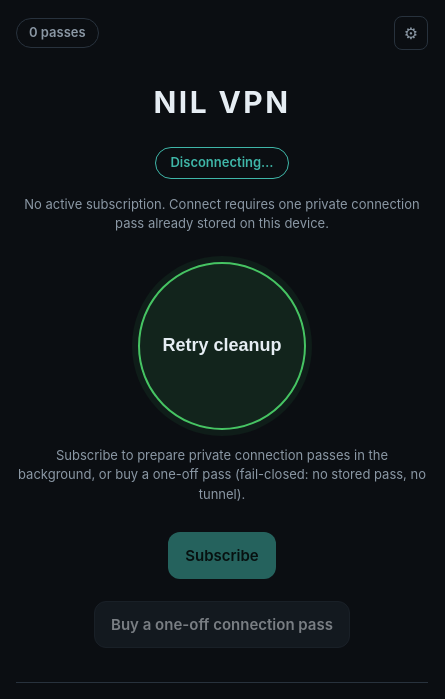
Test: MainScreen fail-closed token gate › allows an explicit retry when fail-closed desktop cleanup is incomplete
The width and height of the screenshot is (445, 699).
Click the button "Retry cleanup" at (222, 346), box [138,262,306,430]
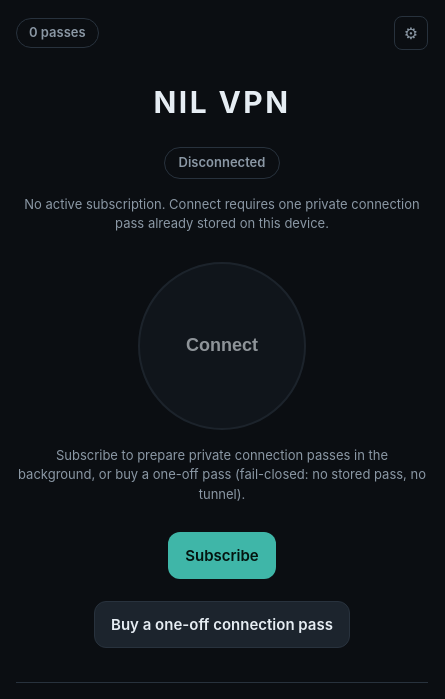
expect the button "Connect" is shown: met, box [138,262,306,430]
